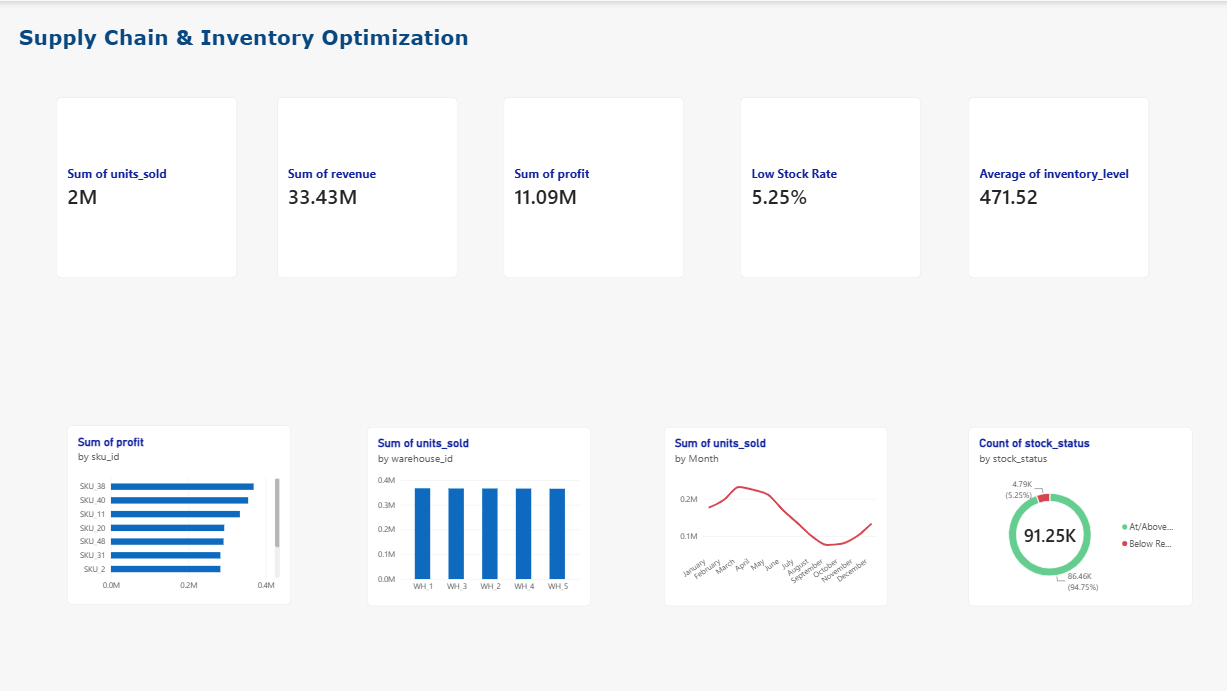

What the dashboard file says about the page in this screenshot:
{"tool":"powerbi","page":{"name":"Overview","canvas":[1920,1080],"ordinal":0},"visuals":[{"type":"cardVisual","fields":{"Data":["Sum(public supply_chain.units_sold)"]},"box":[91.4,150,282,283],"z":0},{"type":"cardVisual","fields":{"Data":["Sum(public supply_chain.revenue)"]},"box":[436.1,150,282,283],"z":1000},{"type":"cardVisual","fields":{"Data":["Sum(public supply_chain.profit)"]},"box":[790.1,150,282,283],"z":2000},{"type":"cardVisual","fields":{"Data":["Avg(public supply_chain.inventory_level)"]},"box":[1516.9,150,282,283],"z":3000},{"type":"lineChart","fields":{"Y":["Sum(public supply_chain.units_sold)"],"Category":["public supply_chain.date.Variation.Date Hierarchy.Month"]},"box":[1040.9,665.8,350,280],"z":4000},{"type":"clusteredColumnChart","fields":{"Category":["public supply_chain.warehouse_id"],"Y":["Sum(public supply_chain.units_sold)"]},"box":[576.7,665.8,350,280],"z":5000},{"type":"clusteredBarChart","fields":{"Category":["public supply_chain.sku_id"],"Y":["Sum(public supply_chain.profit)"]},"box":[107.8,663.5,350,280],"z":6000},{"type":"donutChart","fields":{"Category":["public supply_chain.stock_status"],"Y":["CountNonNull(public supply_chain.stock_status)"]},"box":[1516.9,665.8,350,280],"z":7000},{"type":"cardVisual","fields":{"Data":["public supply_chain.Low Stock Rate"]},"box":[1160.5,150,282,283],"z":8000},{"type":"textbox","box":[32.8,0,1235.5,100.8],"z":8004}]}

Visuals, with their boxes in screenshot pixels (x1, y1, x2, y2), scaled from the page's 1920x1080 canvas onto the 1227x691 screenshot:
cardVisual - Sum(public supply_chain.units_sold): <region>58, 96, 239, 277</region>
cardVisual - Sum(public supply_chain.revenue): <region>279, 96, 459, 277</region>
cardVisual - Sum(public supply_chain.profit): <region>505, 96, 685, 277</region>
cardVisual - Avg(public supply_chain.inventory_level): <region>969, 96, 1150, 277</region>
lineChart - Sum(public supply_chain.units_sold) x public supply_chain.date.Variation.Date Hierarchy.Month: <region>665, 426, 889, 605</region>
clusteredColumnChart - public supply_chain.warehouse_id x Sum(public supply_chain.units_sold): <region>369, 426, 592, 605</region>
clusteredBarChart - public supply_chain.sku_id x Sum(public supply_chain.profit): <region>69, 425, 293, 604</region>
donutChart - public supply_chain.stock_status x CountNonNull(public supply_chain.stock_status): <region>969, 426, 1193, 605</region>
cardVisual - public supply_chain.Low Stock Rate: <region>742, 96, 922, 277</region>
textbox: <region>21, 0, 811, 64</region>
